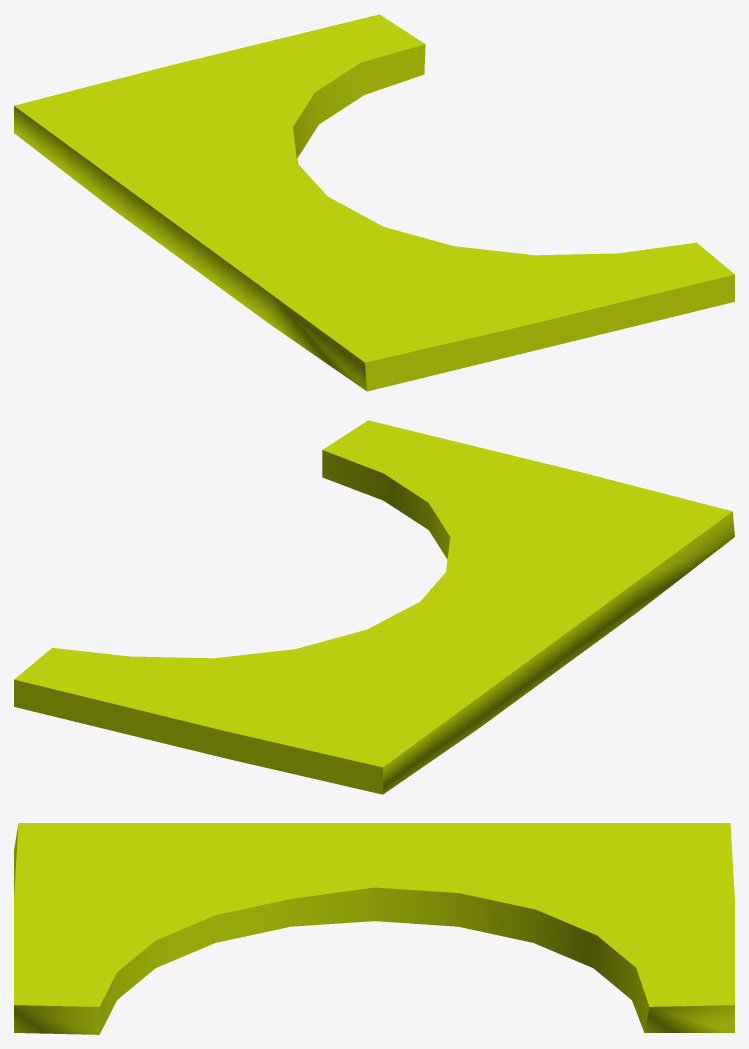
Rendered from Board_Ball_Catch_B.fbx.
3 views of the same model, one above another, from view 1: azimuth 30°, elevation 25°; view 2: azimuth 150°, elevation 25°; view 3: azimuth 270°, elevation 25° (orthographic).
Parts seen in each view (by area): view 1: Board_Ball_Catch_B; view 2: Board_Ball_Catch_B; view 3: Board_Ball_Catch_B.
Boxes of the visible parts, x1,y1,x2,y2 form: Board_Ball_Catch_B: [14, 14, 734, 391]; Board_Ball_Catch_B: [14, 420, 734, 794]; Board_Ball_Catch_B: [14, 823, 734, 1034].
Size of the model in its own units: 3.06 by 0.2772 by 5.06.
